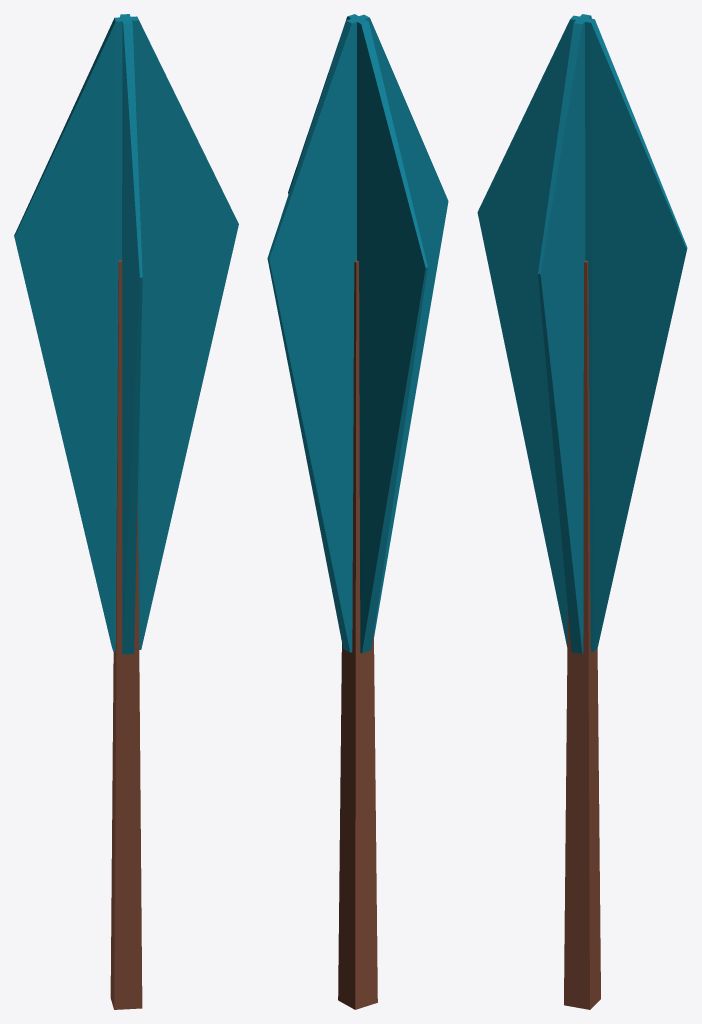
Rendered from Tree_32_summer_blue_mat.fbx.
3 renders of one model, left to right at view 1: azimuth 30°, elevation 25°; view 2: azimuth 150°, elevation 25°; view 3: azimuth 270°, elevation 25°, orthographic.
Parts seen in each view (by area): view 1: Tree_32_summer_blue_mat; view 2: Tree_32_summer_blue_mat; view 3: Tree_32_summer_blue_mat.
Boxes of the visible parts, x1,y1,x2,y2 form: Tree_32_summer_blue_mat: [14, 14, 238, 1009]; Tree_32_summer_blue_mat: [267, 14, 448, 1009]; Tree_32_summer_blue_mat: [477, 14, 687, 1009].
Size of the model in its own units: 48.99 by 253 by 48.99.
